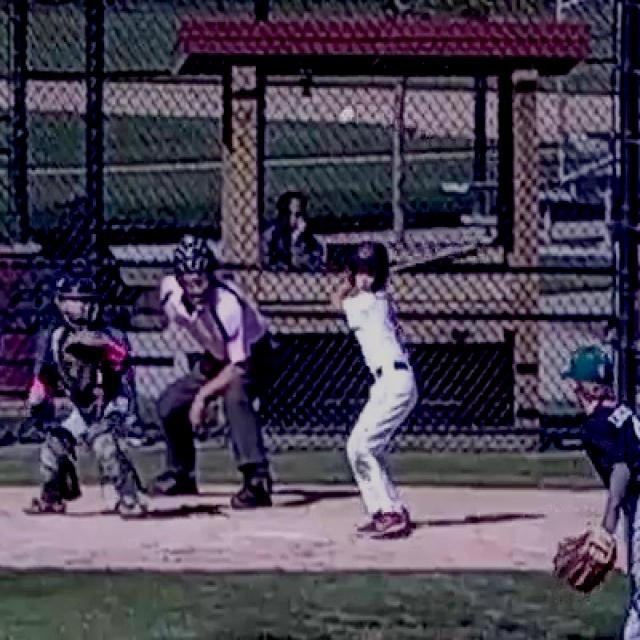baseball: (340, 106, 354, 124)
